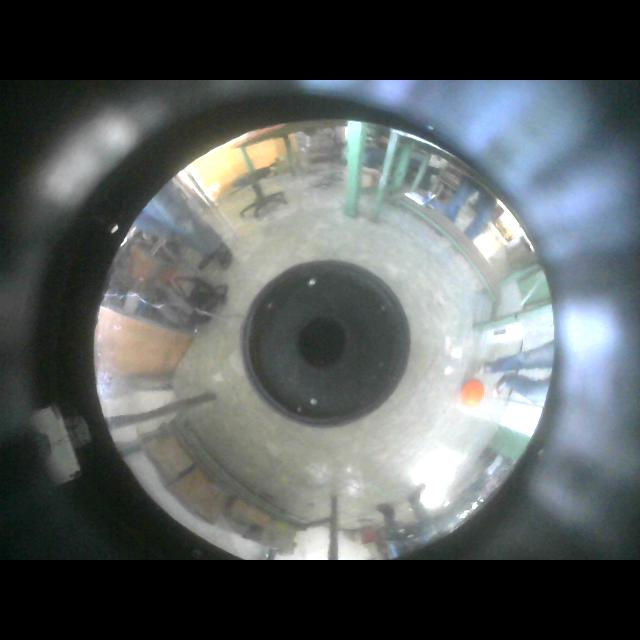bola: (460, 378, 485, 407)
